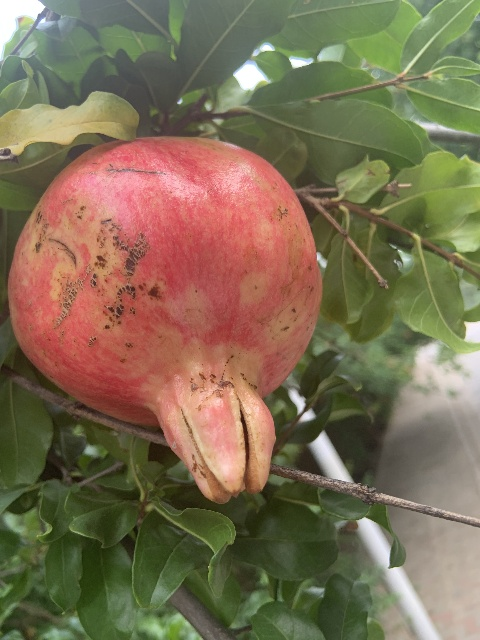ripe: (9, 136, 321, 504)
